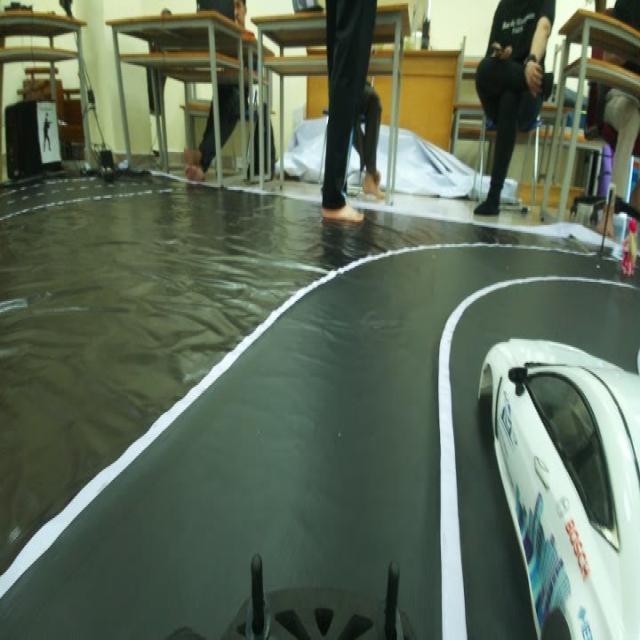car: (465, 294, 640, 640)
